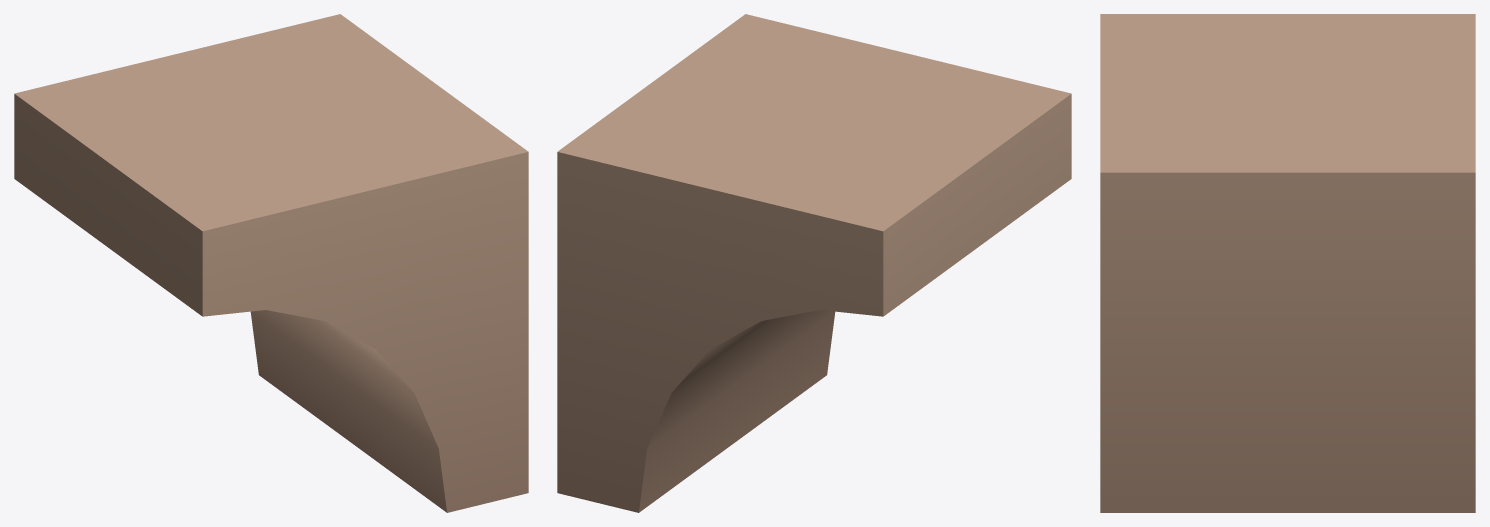
Rendered from corners-corner-basic-a.glb.
3 renders of one model, left to right at view 1: azimuth 30°, elevation 25°; view 2: azimuth 150°, elevation 25°; view 3: azimuth 270°, elevation 25°, orthographic.
Parts seen in each view (by area): view 1: corners-corner-basic-a; view 2: corners-corner-basic-a; view 3: corners-corner-basic-a.
Part boxes in pixels (x1,y1,x2,y2): corners-corner-basic-a: [14, 14, 528, 512]; corners-corner-basic-a: [557, 14, 1071, 512]; corners-corner-basic-a: [1100, 14, 1475, 512].
Size of the model in its own units: 0.2 by 0.2 by 0.2.
